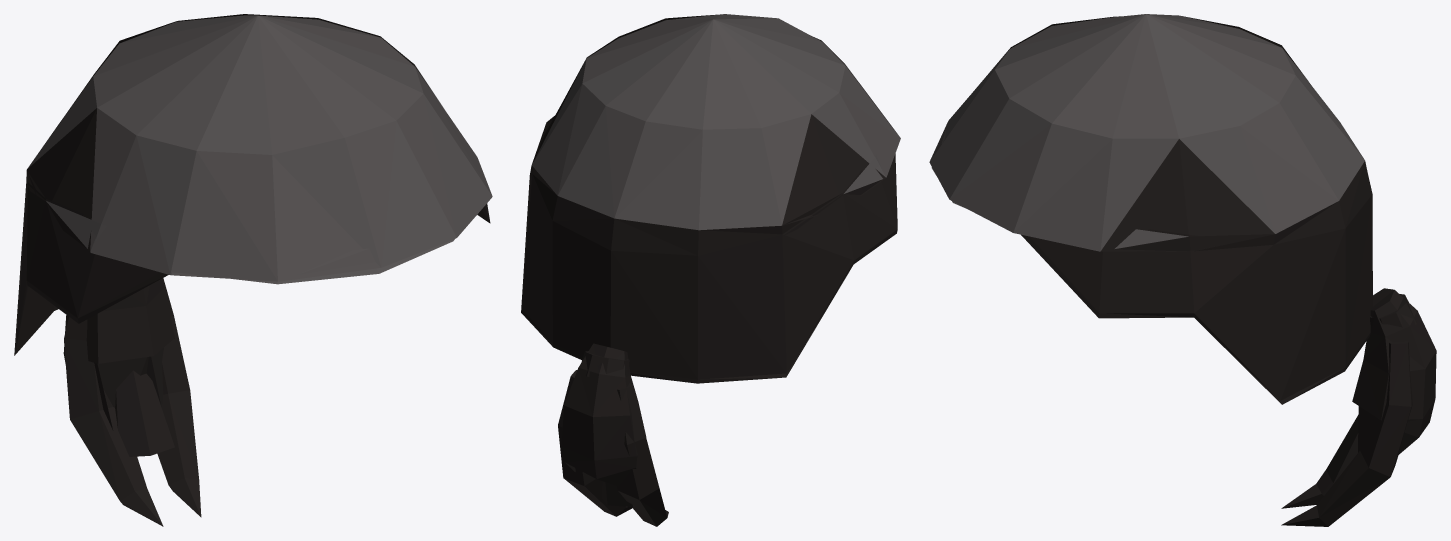
File: hair_ponytail_01.glb
3 renders of one model, left to right at view 1: azimuth 30°, elevation 25°; view 2: azimuth 150°, elevation 25°; view 3: azimuth 270°, elevation 25°, orthographic. The views are drawn at different scales.
Parts seen in each view (by area): view 1: hair_ponytail_01; view 2: hair_ponytail_01; view 3: hair_ponytail_01.
Part boxes in pixels (box(x1,y1,x2,y2)): hair_ponytail_01: box(14, 14, 492, 526); hair_ponytail_01: box(521, 14, 900, 526); hair_ponytail_01: box(929, 14, 1436, 526).
Bounding box in the file's own units: 0.2627 × 0.3418 × 0.3122.
Materials: 1 (1 with a texture image).
